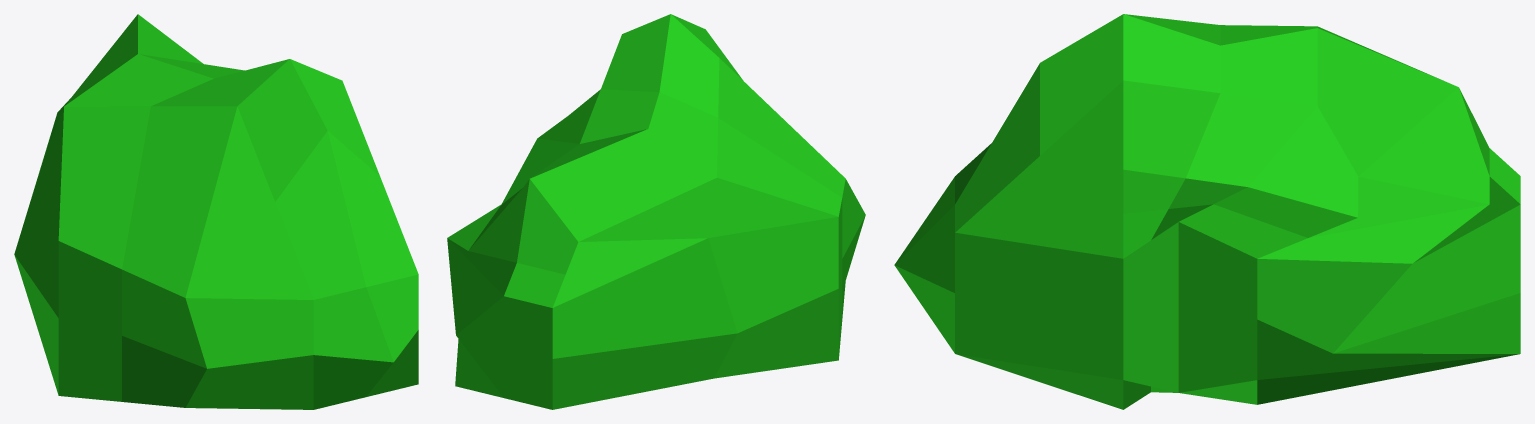
Rendered from grannyBush3.fbx.
3 views of the same model, side by side, from view 1: azimuth 30°, elevation 25°; view 2: azimuth 150°, elevation 25°; view 3: azimuth 270°, elevation 25° (orthographic). The views are drawn at different scales.
Visible parts, largest first — view 1: Cube; view 2: Cube; view 3: Cube.
Boxes of the visible parts, x1,y1,x2,y2 form: Cube: (14, 14, 418, 409); Cube: (447, 14, 865, 409); Cube: (894, 14, 1520, 409).
Size of the model in its own units: 332 by 315 by 487.
